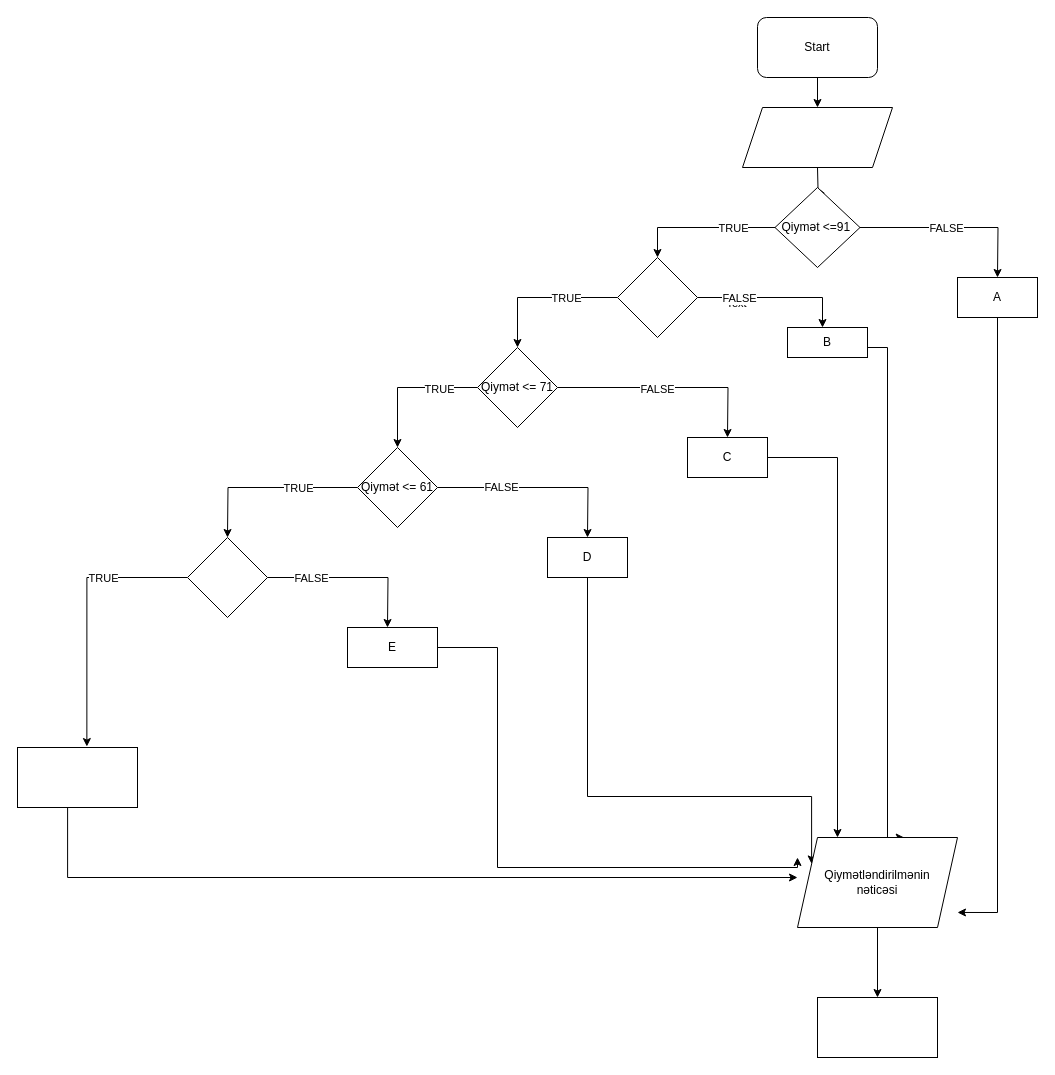
Image size: 1055x1075. Some labels were removed from this diagram. Here are the shapes that lost their labels. From the top down, the centre of each, then its label:
the point at 817,137: Tələbələrin Qiymətləndirilməsi 0<=100
the point at 657,297: Qiymət <= 81
the point at 227,577: Qiymət <= 51
the point at 77,777: F kəsildiniz
the point at 877,1027: End
